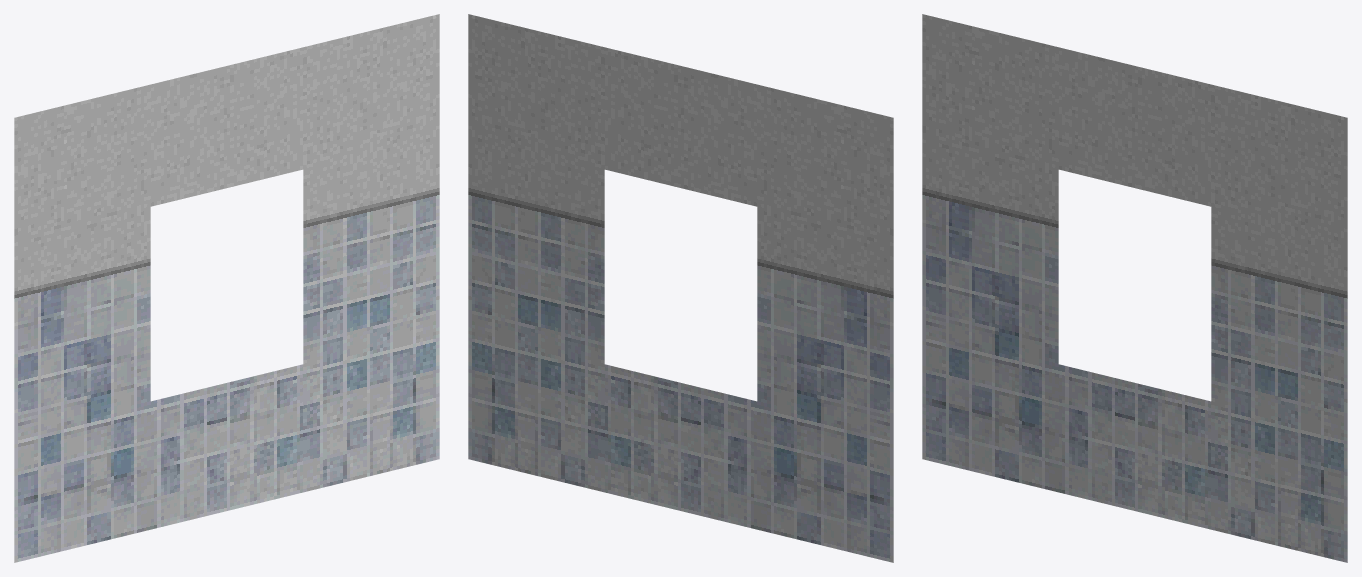
File: wallWindowTiles.glb
3 views of the same model, side by side, from view 1: azimuth 30°, elevation 25°; view 2: azimuth 150°, elevation 25°; view 3: azimuth 330°, elevation 25° (orthographic).
Visible parts, largest first — view 1: wallWindowTiles; view 2: wallWindowTiles; view 3: wallWindowTiles.
Part boxes in pixels (bbox=[...]): wallWindowTiles: bbox=[14, 14, 439, 562]; wallWindowTiles: bbox=[468, 14, 893, 562]; wallWindowTiles: bbox=[922, 14, 1347, 562].
Bounding box in the file's own units: 4 × 4 × 1.19e-07.
1 material, 1 textured.
